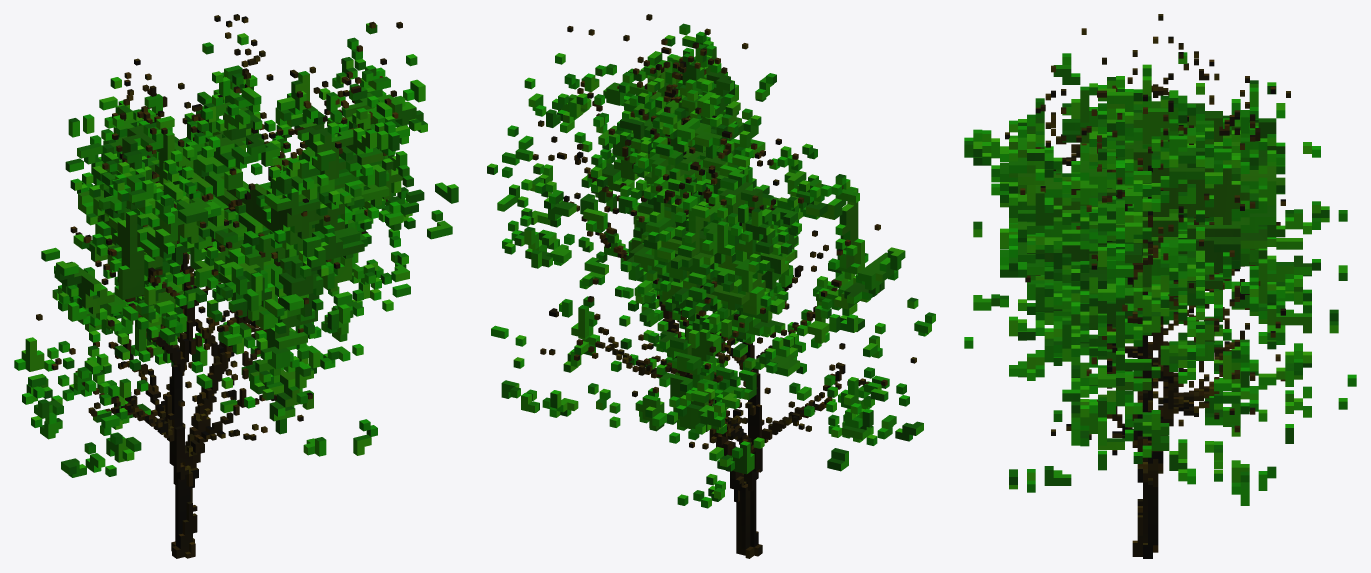
The model's file is small_tree.fbx.
The picture shows the model from 3 angles, left to right: view 1: azimuth 30°, elevation 25°; view 2: azimuth 150°, elevation 25°; view 3: azimuth 270°, elevation 25°; orthographic projection. The views are drawn at different scales.
Parts seen in each view (by area): view 1: Tree_LOD_0; view 2: Tree_LOD_0; view 3: Tree_LOD_0.
Part boxes in pixels (left/top/right/bottom): Tree_LOD_0: left=14, top=14, right=458, bottom=558; Tree_LOD_0: left=487, top=14, right=935, bottom=558; Tree_LOD_0: left=964, top=14, right=1356, bottom=558.
Bounding box in the file's own units: 392 × 461 × 292.
